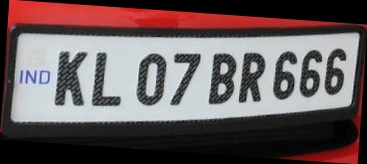character: (52, 50, 87, 107), (89, 50, 121, 105), (169, 51, 201, 105), (135, 52, 166, 105), (207, 51, 235, 104), (238, 50, 265, 103), (271, 50, 297, 99), (323, 48, 346, 95), (299, 49, 321, 98)
